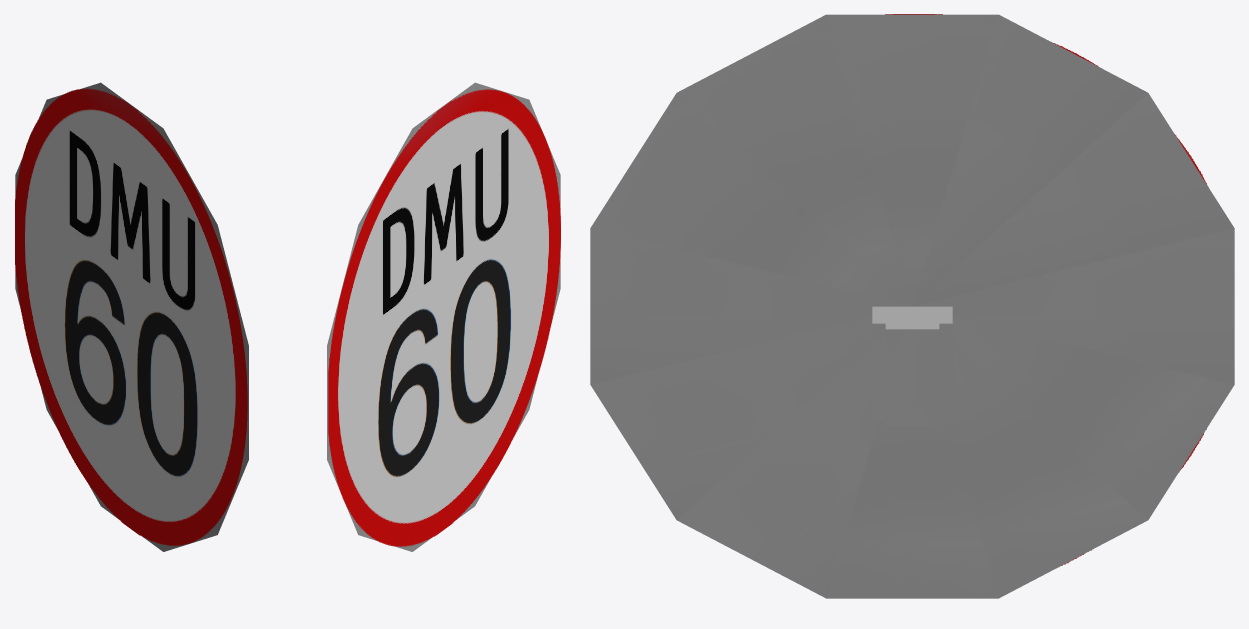
File: speed_60_dmu_medium.obj
3 views of the same model, side by side, from view 1: azimuth 30°, elevation 25°; view 2: azimuth 150°, elevation 25°; view 3: azimuth 270°, elevation 25° (orthographic). The views are drawn at different scales.
Visible parts, largest first — view 1: cube, circle; view 2: cube, circle; view 3: circle, cube.
Part boxes in pixels (box(x1,y1,x2,y2)): cube: box(15, 88, 247, 545); circle: box(15, 82, 248, 551); cube: box(328, 89, 560, 546); circle: box(327, 82, 560, 551); circle: box(590, 14, 1234, 598); cube: box(872, 14, 1206, 565).
Bounding box in the file's own units: 0.0641 × 0.75 × 0.75.
Materials: 2 (2 with a texture image).
